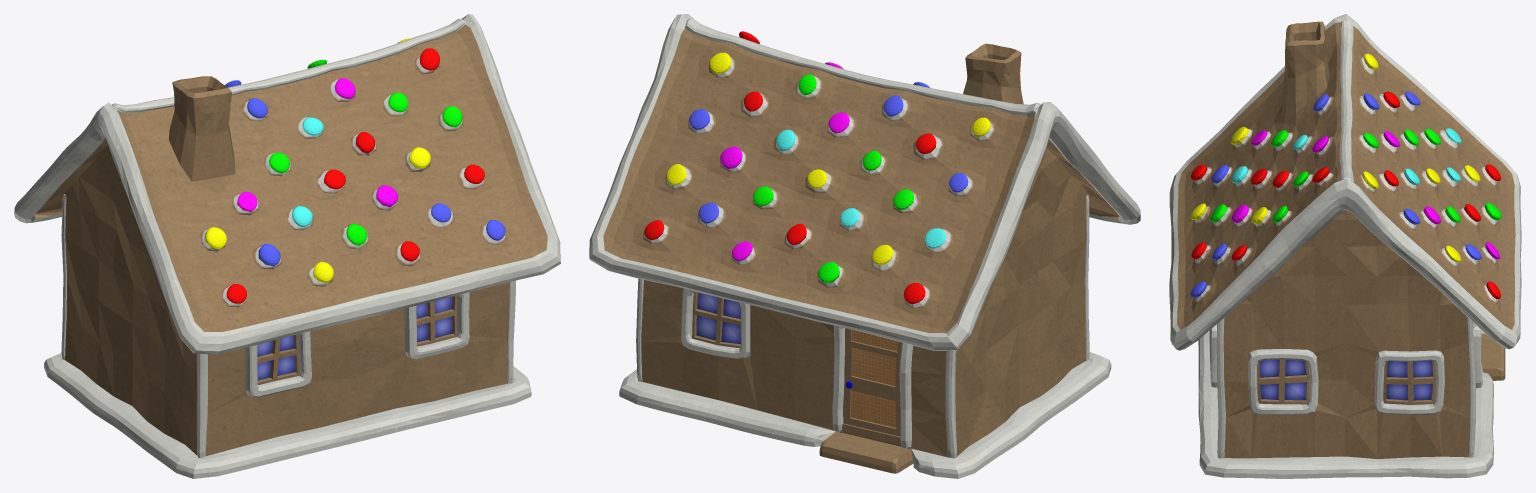
File: gingerbreadhouse.obj
3 renders of one model, left to right at view 1: azimuth 30°, elevation 25°; view 2: azimuth 150°, elevation 25°; view 3: azimuth 270°, elevation 25°, orthographic. The views are drawn at different scales.
Parts seen in each view (by area): view 1: gingerbreadhousemesh; view 2: gingerbreadhousemesh; view 3: gingerbreadhousemesh.
Part boxes in pixels (x1,y1,x2,y2): gingerbreadhousemesh: [14, 14, 560, 478]; gingerbreadhousemesh: [589, 14, 1140, 478]; gingerbreadhousemesh: [1169, 14, 1521, 478].
Size of the model in its own units: 4.88 by 4.18 by 4.17.
1 material, 1 textured.
